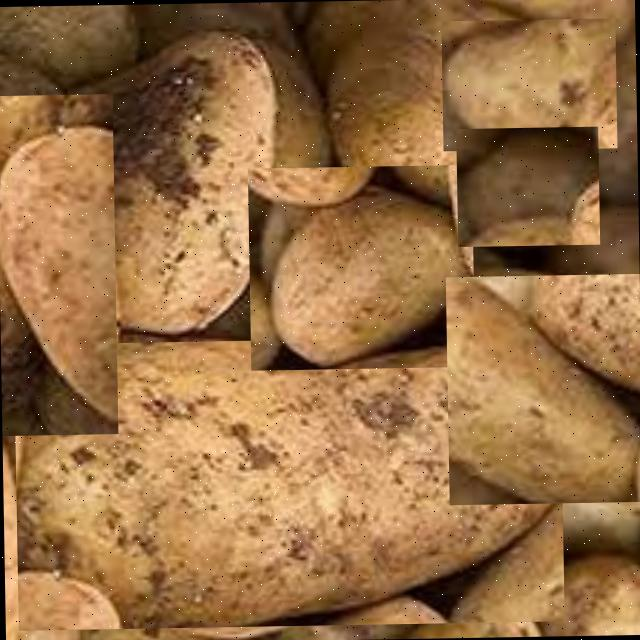Damaged potato: (0, 92, 118, 434), (456, 126, 600, 246)
Diseased-fungal potato: (13, 334, 564, 629), (81, 6, 280, 335), (248, 163, 474, 370), (445, 272, 640, 503), (328, 30, 491, 201), (441, 17, 617, 150)
